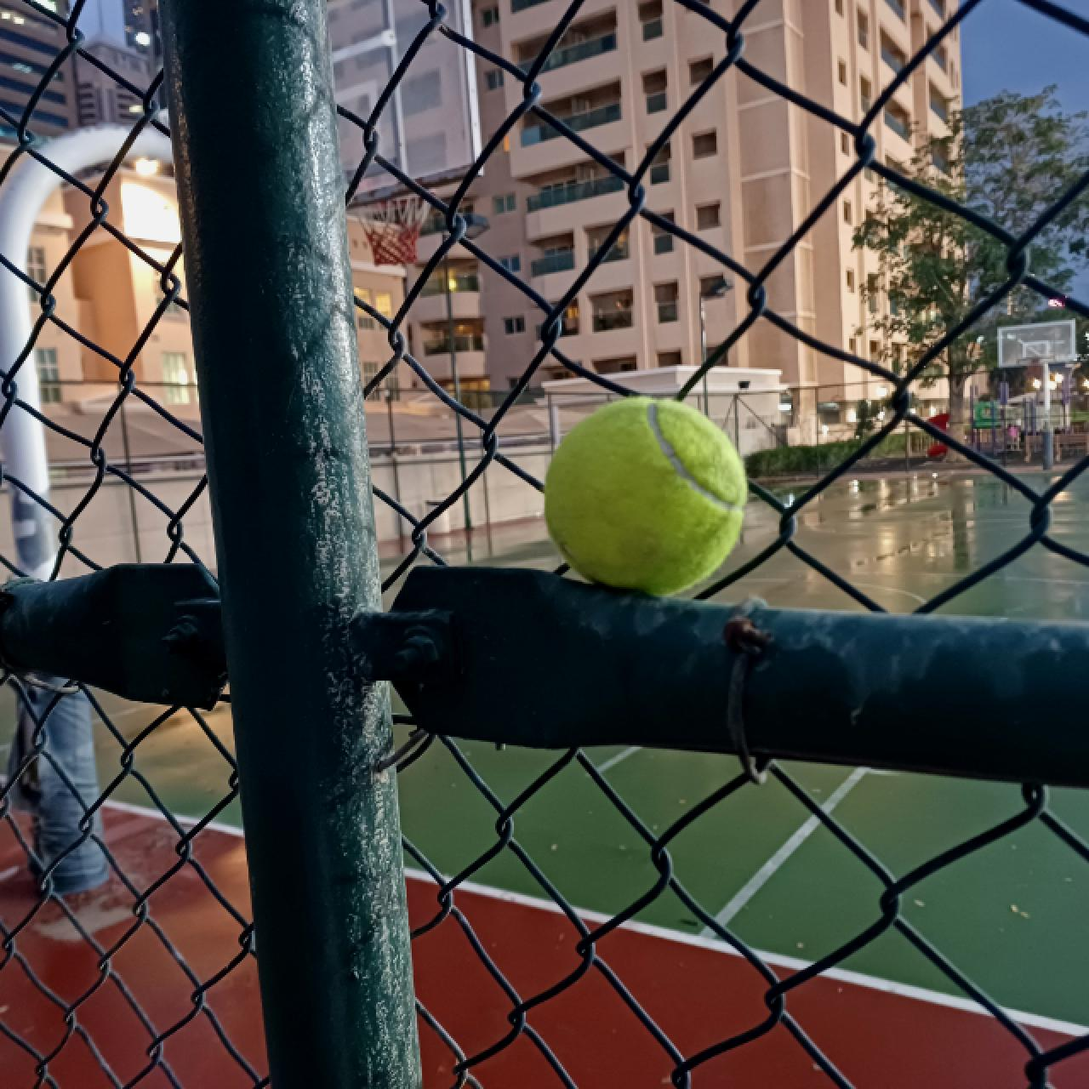tennis-ball: (543, 396, 749, 597)
